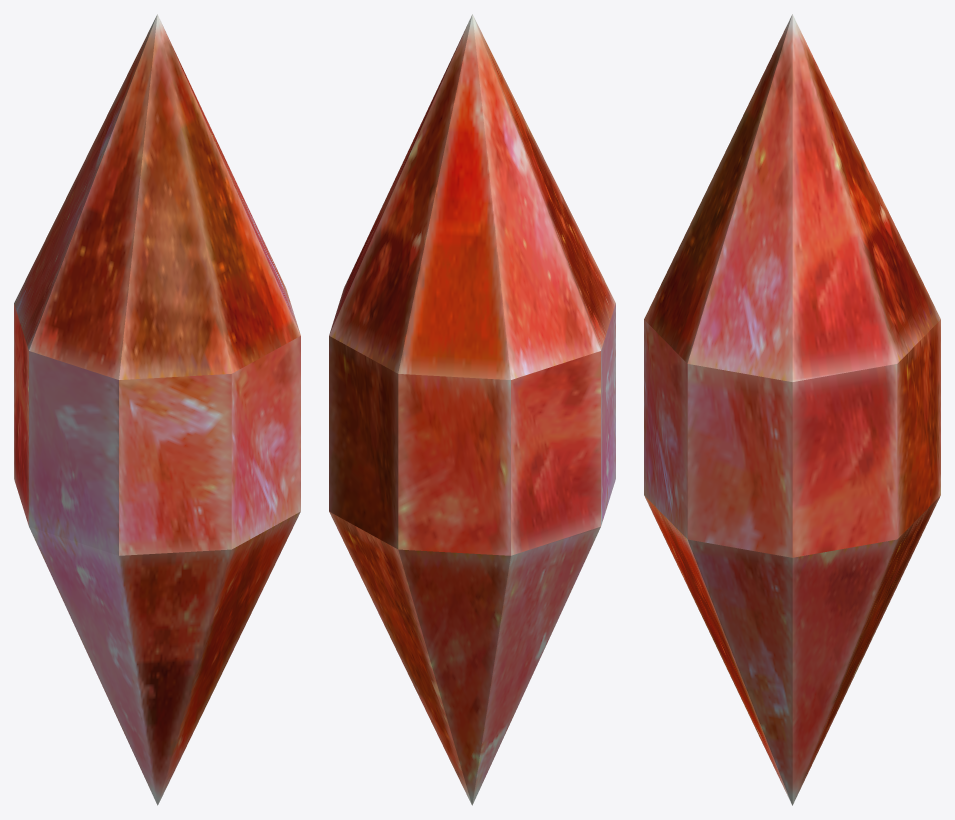
3 renders of one model, left to right at view 1: azimuth 30°, elevation 25°; view 2: azimuth 150°, elevation 25°; view 3: azimuth 270°, elevation 25°, orthographic.
Visible parts, largest first — view 1: ct_fa45-col; view 2: ct_fa45-col; view 3: ct_fa45-col.
Boxes of the visible parts, left/top/right/bottom form: ct_fa45-col: left=14, top=14, right=300, bottom=805; ct_fa45-col: left=329, top=14, right=615, bottom=805; ct_fa45-col: left=644, top=14, right=940, bottom=805.
Size of the model in its own units: 0.1188 by 0.3495 by 0.1188.
Materials: 1 (1 with a texture image).
